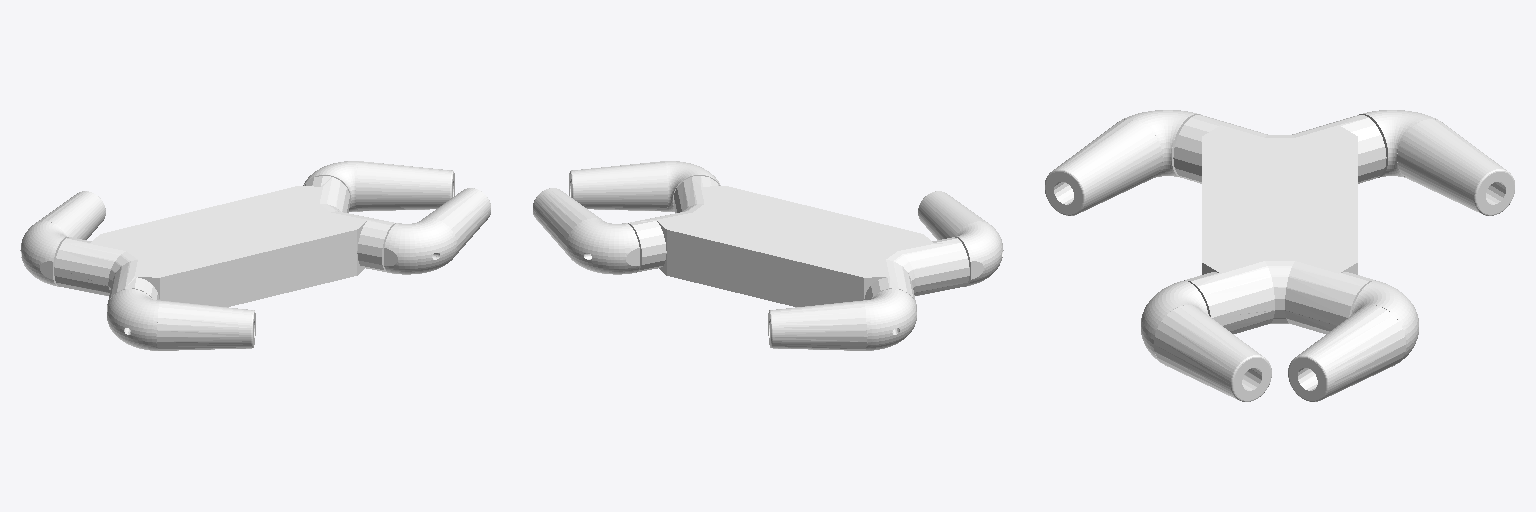
The robot description file, URDF, robot "35_degree":
<?xml version="1.0" encoding="utf-8"?>
<!-- This URDF was automatically created by SolidWorks to URDF Exporter! Originally created by [author] ([email redacted]) 
     Commit Version: 1.5.1-0-g916b5db  Build Version: 1.5.7152.31018
     For more information, please see http://wiki.ros.org/sw_urdf_exporter -->
<robot
  name="35_degree">
  <link
    name="base_link">
    <inertial>
      <origin
        xyz="-4.8572E-17 5.6949E-08 4.2888E-08"
        rpy="0 0 0" />
      <mass
        value="2.942" />
      <inertia
        ixx="0.0089184"
        ixy="9.5291E-19"
        ixz="-1.4813E-10"
        iyy="0.0514956"
        iyz="6.8397E-18"
        izz="0.0579431" />
    </inertial>
    <visual>
      <origin
        xyz="0 0 0"
        rpy="0 0 0" />
      <geometry>
        <mesh
          filename="package://35_degree/meshes/base_link.STL" />
      </geometry>
      <material
        name="">
        <color
          rgba="1 1 1 1" />
      </material>
    </visual>
    <collision>
      <origin
        xyz="0 0 0"
        rpy="0 0 0" />
      <geometry>
        <mesh
          filename="package://35_degree/meshes/base_link.STL" />
      </geometry>
    </collision>
  </link>
  <link
    name="left_front_link">
    <inertial>
      <origin
        xyz="-6.5246E-08 0.06721 0.0031007"
        rpy="0 0 0" />
      <mass
        value="0.092" />
      <inertia
        ixx="0.0002604"
        ixy="-2.1526E-10"
        ixz="7.2668E-10"
        iyy="0.0000987"
        iyz="-0.0000885"
        izz="0.0002114" />
    </inertial>
    <visual>
      <origin
        xyz="0 0 0"
        rpy="0 0 0" />
      <geometry>
        <mesh
          filename="package://35_degree/meshes/left_front_link.STL" />
      </geometry>
      <material
        name="">
        <color
          rgba="1 1 1 1" />
      </material>
    </visual>
    <collision>
      <origin
        xyz="0 0 0"
        rpy="0 0 0" />
      <geometry>
        <mesh
          filename="package://35_degree/meshes/left_front_link.STL" />
      </geometry>
    </collision>
  </link>
  <joint
    name="left_front_leg"
    type="continuous">
    <origin
      xyz="0.18908 0.084373 0"
      rpy="1.5708 1.5708 0" />
    <parent
      link="base_link" />
    <child
      link="left_front_link" />
    <axis
      xyz="0 0.57358 -0.81915" />
    <limit
      effort="5"
      velocity="487" />
  </joint>
  <link
    name="right_front_link">
    <inertial>
      <origin
        xyz="6.5246E-08 0.06721 -0.0031007"
        rpy="0 0 0" />
      <mass
        value="0.092" />
      <inertia
        ixx="0.0002604"
        ixy="2.1526E-10"
        ixz="7.2668E-10"
        iyy="0.0000987"
        iyz="0.0000885"
        izz="0.0002114" />
    </inertial>
    <visual>
      <origin
        xyz="0 0 0"
        rpy="0 0 0" />
      <geometry>
        <mesh
          filename="package://35_degree/meshes/right_front_link.STL" />
      </geometry>
      <material
        name="">
        <color
          rgba="1 1 1 1" />
      </material>
    </visual>
    <collision>
      <origin
        xyz="0 0 0"
        rpy="0 0 0" />
      <geometry>
        <mesh
          filename="package://35_degree/meshes/right_front_link.STL" />
      </geometry>
    </collision>
  </link>
  <joint
    name="right_front_leg"
    type="continuous">
    <origin
      xyz="0.18908 -0.084373 0"
      rpy="1.5708 1.5708 0" />
    <parent
      link="base_link" />
    <child
      link="right_front_link" />
    <axis
      xyz="0 0.57358 0.81915" />
    <limit
      effort="5"
      velocity="487" />
  </joint>
  <link
    name="right_back_link">
    <inertial>
      <origin
        xyz="1.0133E-07 0.056834 0.03601"
        rpy="0 0 0" />
      <mass
        value="0.092" />
      <inertia
        ixx="0.0002604"
        ixy="-4.8701E-10"
        ixz="1.3385E-10"
        iyy="0.0000526"
        iyz="-2.27E-05"
        izz="0.0002575" />
    </inertial>
    <visual>
      <origin
        xyz="0 0 0"
        rpy="0 0 0" />
      <geometry>
        <mesh
          filename="package://35_degree/meshes/right_back_link.STL" />
      </geometry>
      <material
        name="">
        <color
          rgba="1 1 1 1" />
      </material>
    </visual>
    <collision>
      <origin
        xyz="0 0 0"
        rpy="0 0 0" />
      <geometry>
        <mesh
          filename="package://35_degree/meshes/right_back_link.STL" />
      </geometry>
    </collision>
  </link>
  <joint
    name="right_back_leg"
    type="continuous">
    <origin
      xyz="-0.18908 -0.084373 0"
      rpy="2.1817 1.5708 0" />
    <parent
      link="base_link" />
    <child
      link="right_back_link" />
    <axis
      xyz="0 0 1" />
    <limit
      effort="5"
      velocity="487" />
  </joint>
  <link
    name="left_back_link">
    <inertial>
      <origin
        xyz="-1.0133E-07 0.025901 -0.062097"
        rpy="0 0 0" />
      <mass
        value="0.092" />
      <inertia
        ixx="0.0002604"
        ixy="4.7571E-10"
        ixz="-1.6969E-10"
        iyy="0.0001413"
        iyz="0.0001040"
        izz="0.0001688" />
    </inertial>
    <visual>
      <origin
        xyz="0 0 0"
        rpy="0 0 0" />
      <geometry>
        <mesh
          filename="package://35_degree/meshes/left_back_link.STL" />
      </geometry>
      <material
        name="">
        <color
          rgba="1 1 1 1" />
      </material>
    </visual>
    <collision>
      <origin
        xyz="0 0 0"
        rpy="0 0 0" />
      <geometry>
        <mesh
          filename="package://35_degree/meshes/left_back_link.STL" />
      </geometry>
    </collision>
  </link>
  <joint
    name="left_back_leg"
    type="continuous">
    <origin
      xyz="-0.18908 0.084373 0"
      rpy="1.5708 1.5708 0" />
    <parent
      link="base_link" />
    <child
      link="left_back_link" />
    <axis
      xyz="0 -0.57358 -0.81915" />
    <limit
      effort="5"
      velocity="487" />
  </joint>
</robot>

--- Render facts (derived) ---
Views: 3 orthographic renders of the robot side by side, from view 1: azimuth 30°, elevation 25°; view 2: azimuth 150°, elevation 25°; view 3: azimuth 270°, elevation 25°.
Robot: 35_degree — 5 links, 4 joints (4 continuous); root link base_link; default pose: all joints at 0.
Visible links, largest first — view 1: base_link, right_back_link, right_front_link, left_front_link, left_back_link; view 2: base_link, left_back_link, left_front_link, right_front_link, right_back_link; view 3: base_link, left_front_link, right_front_link, right_back_link, left_back_link.
Link boxes in pixels (x1=…): base_link: x1=54, y1=176, x2=395, y2=311; right_back_link: x1=107, y1=289, x2=255, y2=350; right_front_link: x1=384, y1=188, x2=490, y2=274; left_front_link: x1=303, y1=161, x2=454, y2=211; left_back_link: x1=20, y1=191, x2=105, y2=286; base_link: x1=628, y1=176, x2=969, y2=311; left_back_link: x1=768, y1=289, x2=916, y2=350; left_front_link: x1=533, y1=188, x2=639, y2=274; right_front_link: x1=569, y1=161, x2=720, y2=211; right_back_link: x1=918, y1=191, x2=1003, y2=286; base_link: x1=1173, y1=115, x2=1386, y2=333; left_front_link: x1=1288, y1=281, x2=1418, y2=401; right_front_link: x1=1141, y1=281, x2=1271, y2=401; right_back_link: x1=1045, y1=110, x2=1200, y2=215; left_back_link: x1=1359, y1=110, x2=1514, y2=215.
Bounding box of the posed robot: 0.5838 × 0.4538 × 0.064 m (x, y, z).
5 mesh visuals loaded from 5 distinct referenced files (5 binary STL).